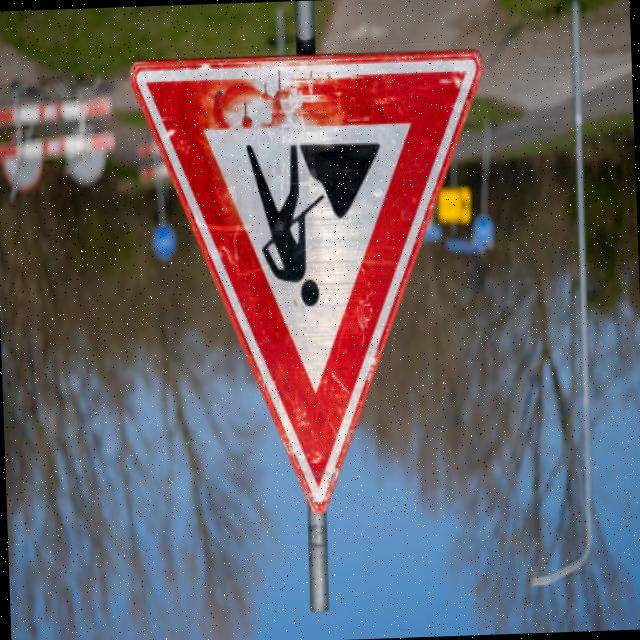road_work: (130, 32, 508, 511)
